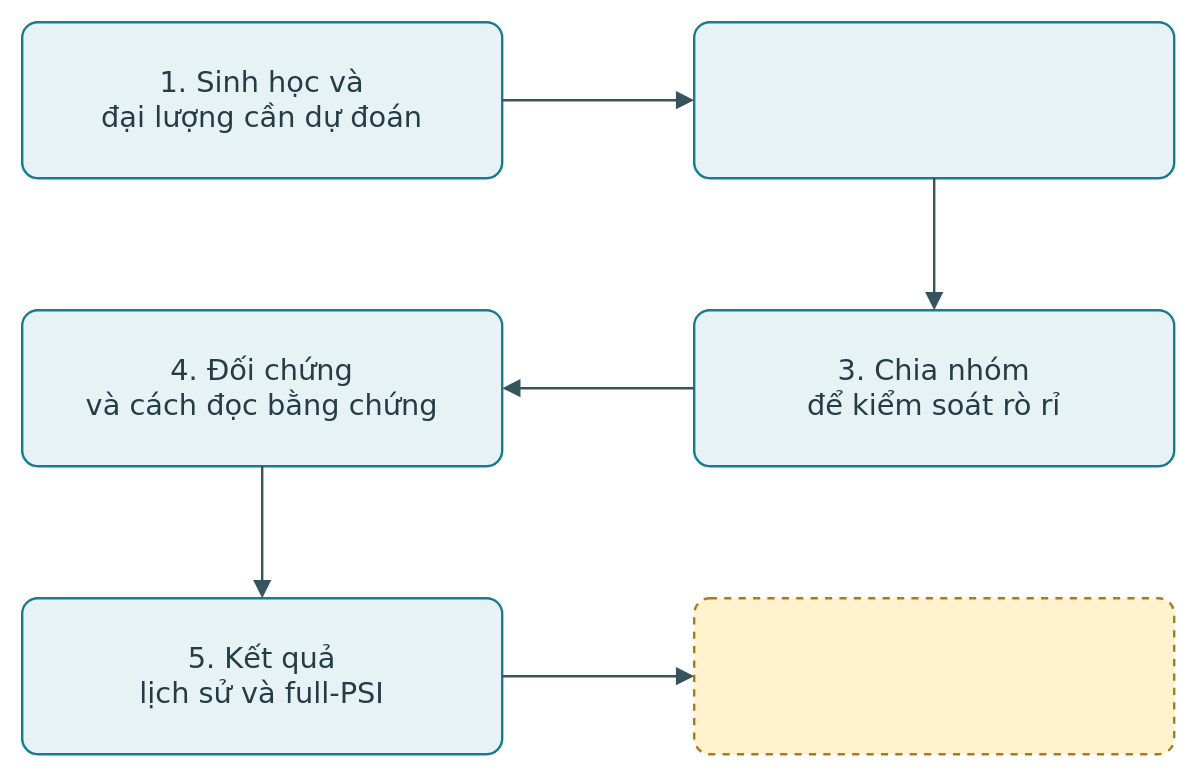
Some shapes in this 1195 by 775 pixel diagram are drawn without their labels. Here are the shapes that lost their labels. From the top down, the centre of each, then its label:
At (933,99): "2. Thực nghiệm được chuyển thành nhãn".
At (933,675): "6. Hướng local và tích hợp còn lại".
